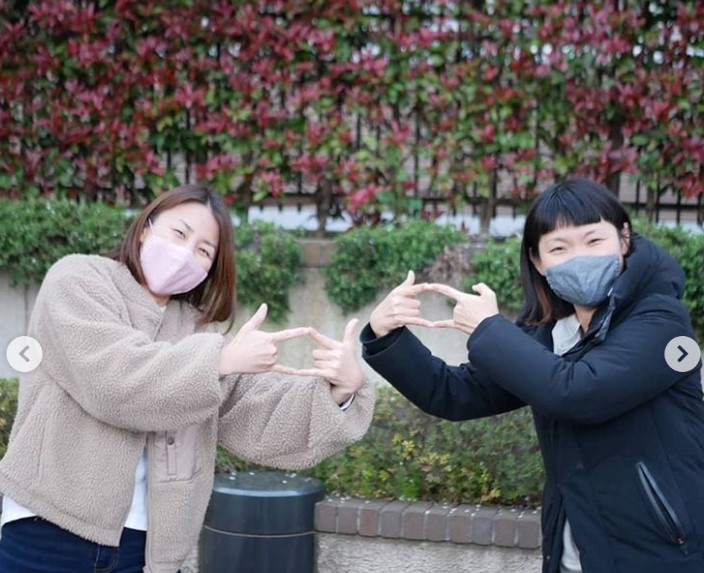face_with_mask: (523, 177, 640, 315), (120, 180, 228, 309)
